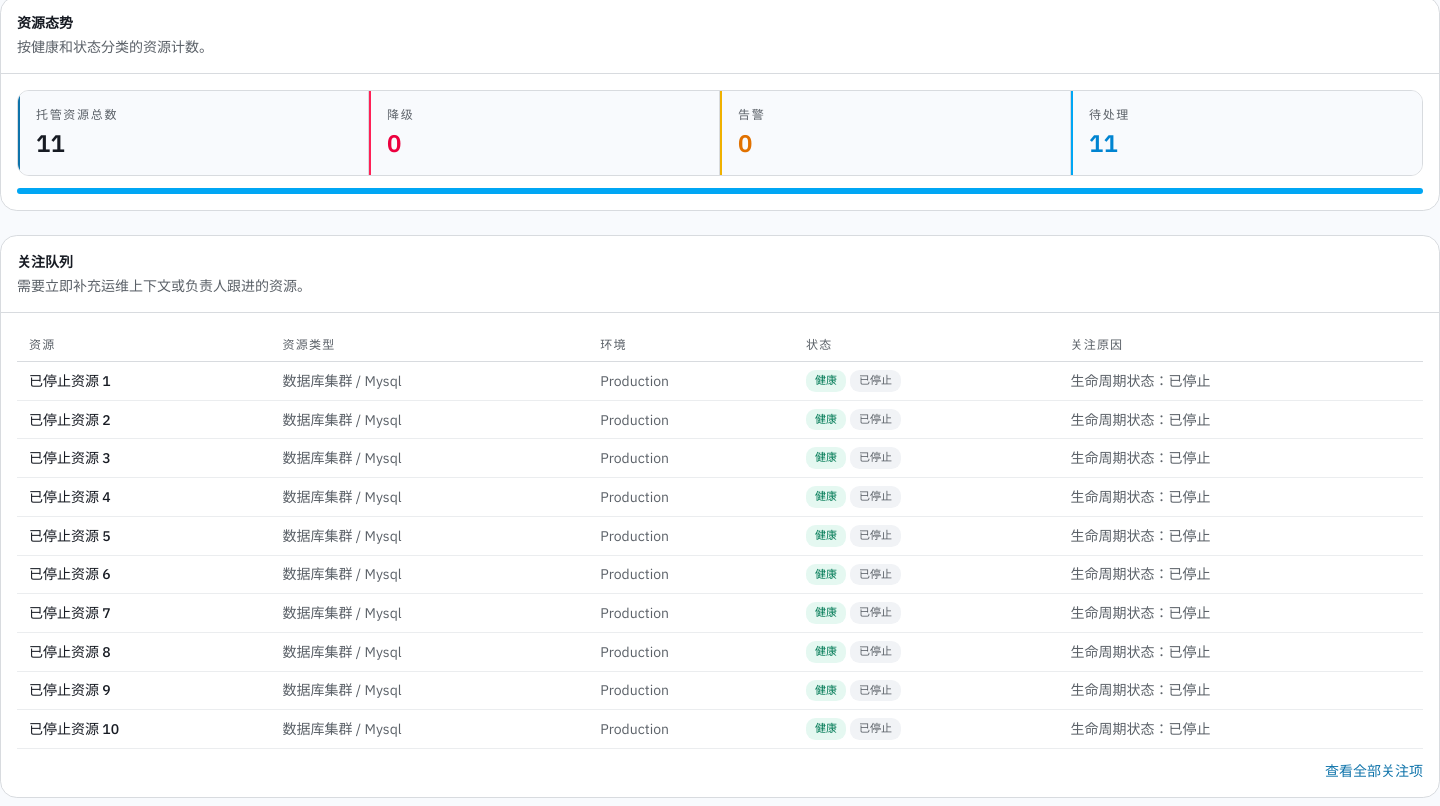
Scenario: OverviewContent attention reason › localizes the accessible expansion toggle in zh-CN
The image size is (1440, 806).
Click the button "查看全部关注项". click: coordinates (1374, 771)
box: [1325,761,1423,781]
(page scrolled)
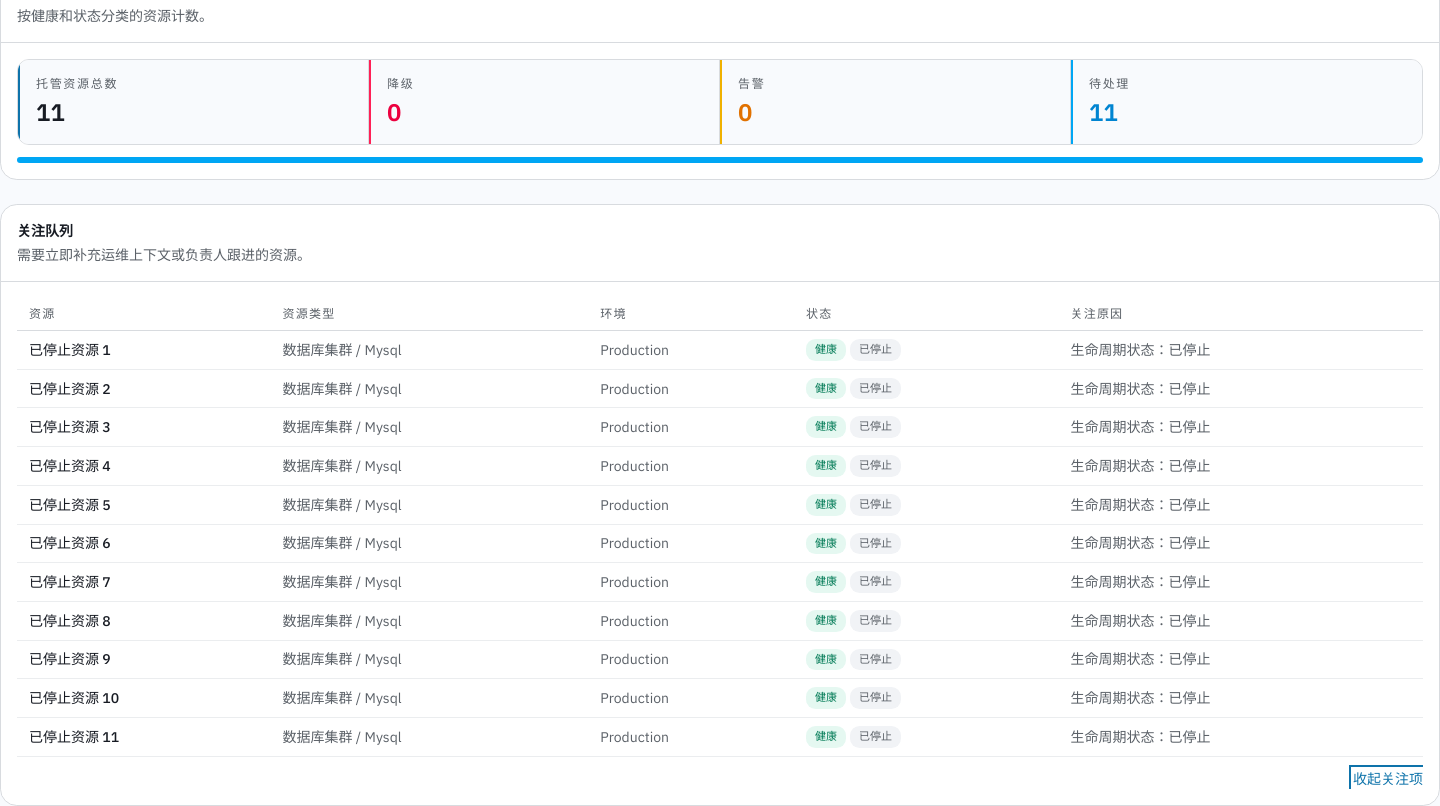
Check: the button "收起关注项" is expanded, box [1353,769,1423,789]
